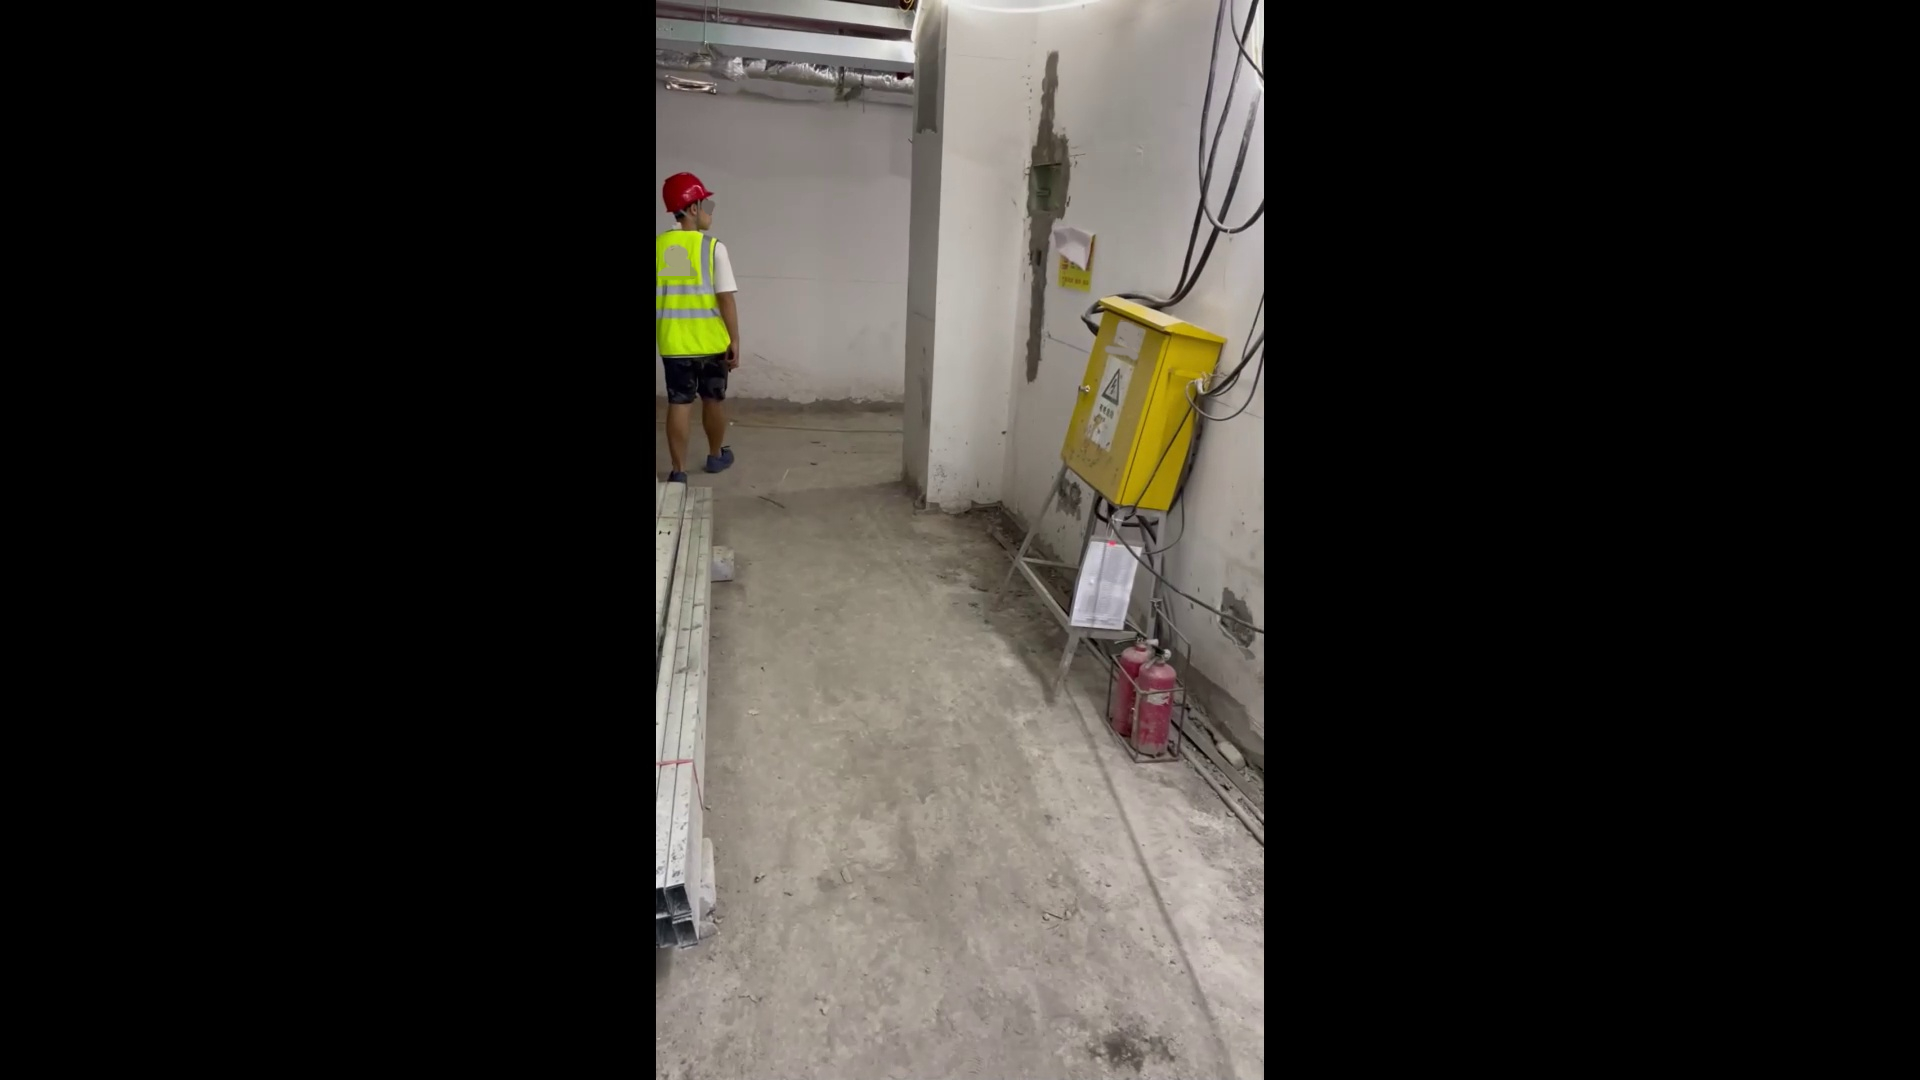ebox: (1012, 261, 1221, 730)
helmet: (660, 165, 715, 215)
person: (665, 165, 748, 499)
vest: (656, 224, 741, 362)
